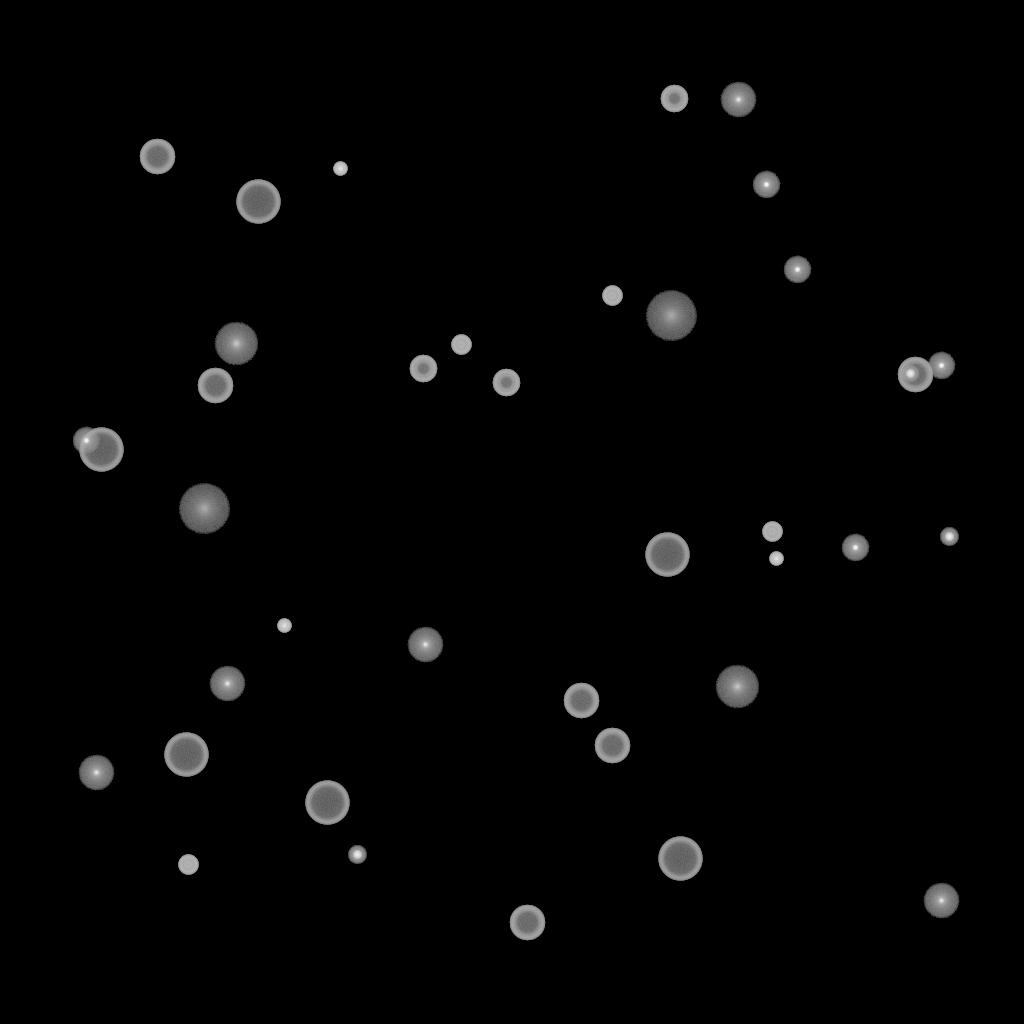depth:-10: (927, 352, 955, 380), (72, 427, 100, 455), (783, 256, 811, 284), (752, 171, 780, 199), (841, 534, 869, 562)
depth:-20: (901, 365, 919, 383), (940, 528, 958, 546), (348, 846, 366, 864)
depth:-30: (277, 619, 291, 633), (333, 162, 347, 176), (769, 552, 783, 566)
depth:-40: (762, 522, 782, 542), (451, 335, 471, 355), (602, 286, 622, 306), (178, 855, 198, 875)
depth:-50: (660, 85, 688, 113), (492, 369, 520, 397), (409, 355, 437, 383)
depth:-60: (897, 357, 933, 393), (594, 728, 630, 764), (139, 139, 175, 175), (509, 905, 545, 941), (197, 368, 233, 404), (563, 683, 599, 719)
depth:-70: (79, 428, 123, 472), (305, 781, 349, 825), (236, 180, 280, 224), (658, 837, 702, 881), (164, 733, 208, 777), (645, 533, 689, 577)
depth:0: (78, 755, 114, 791), (209, 666, 245, 702), (720, 82, 756, 118), (923, 883, 959, 919), (407, 627, 443, 663)
depth:10: (715, 665, 759, 709), (214, 322, 258, 366)
depth:20: (178, 484, 230, 534), (645, 291, 697, 341)
